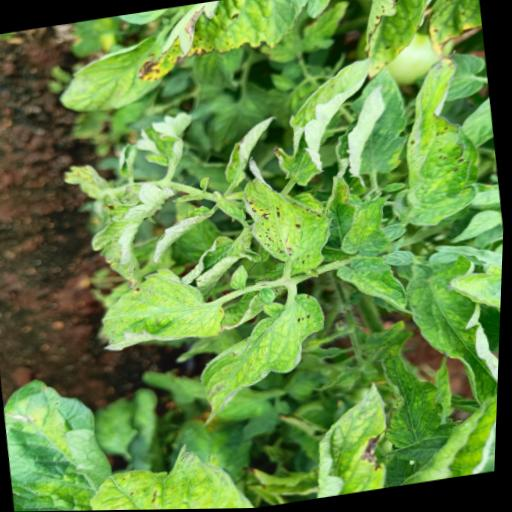Early Blight: (386, 46, 487, 230), (129, 0, 352, 80), (235, 145, 342, 284), (347, 0, 446, 83)
